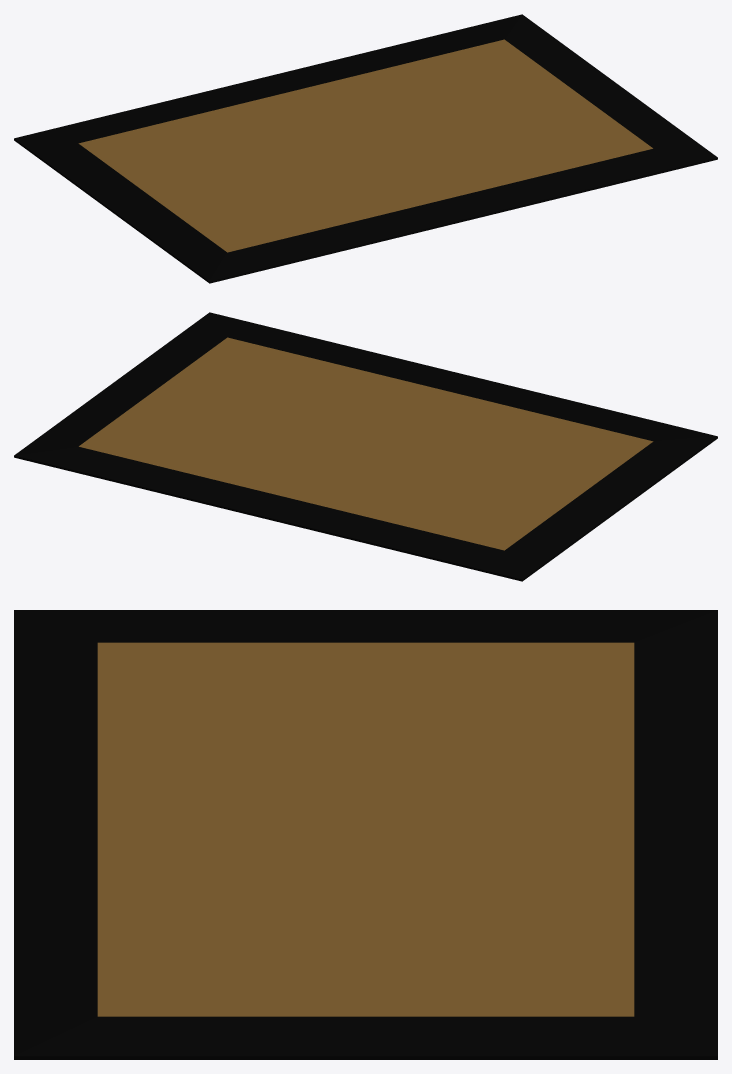
File: Tapis_porte_gamejam.fbx
3 renders of one model, top to bottom at view 1: azimuth 30°, elevation 25°; view 2: azimuth 150°, elevation 25°; view 3: azimuth 270°, elevation 25°, orthographic. The views are drawn at different scales.
Visible parts, largest first — view 1: Plane; view 2: Plane; view 3: Plane.
Part boxes in pixels (<box>): Plane: <box>14,14,717,283</box>; Plane: <box>14,312,717,581</box>; Plane: <box>14,610,717,1059</box>.
Bounding box in the file's own units: 90 × 0.6745 × 60.
